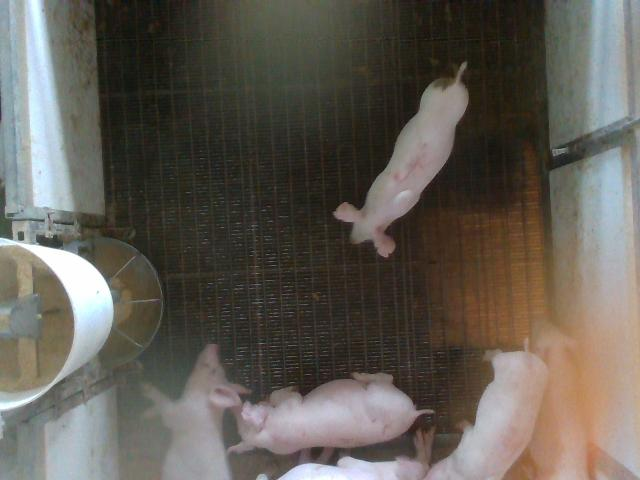pig-4: (426, 351, 548, 479)
pig-5: (334, 63, 469, 257)
